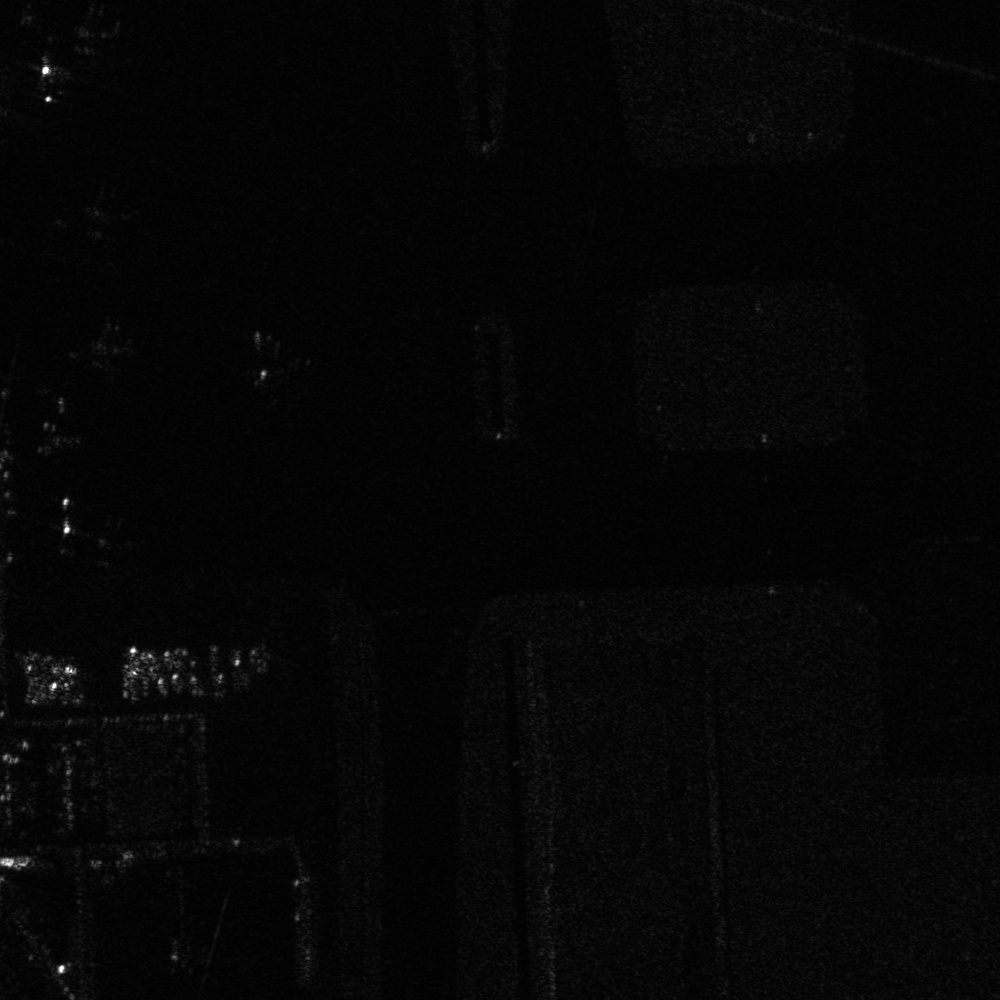A220: (68, 304, 157, 382), (61, 182, 143, 259)
other: (216, 320, 328, 391)
